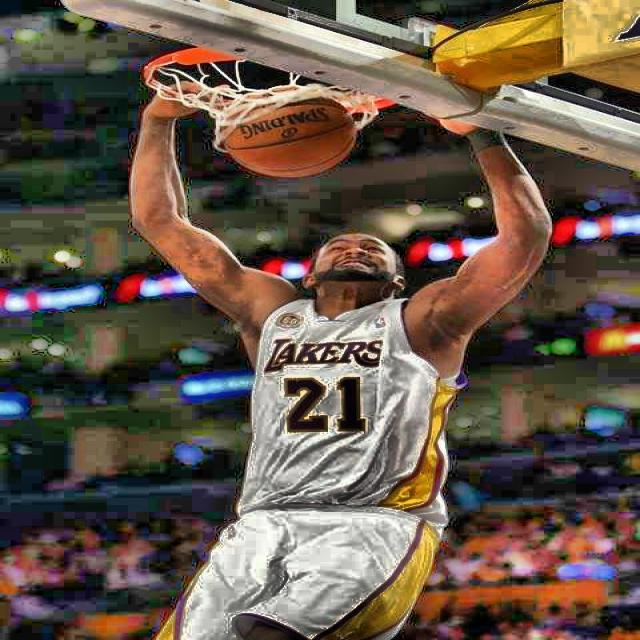board: (215, 89, 357, 181)
